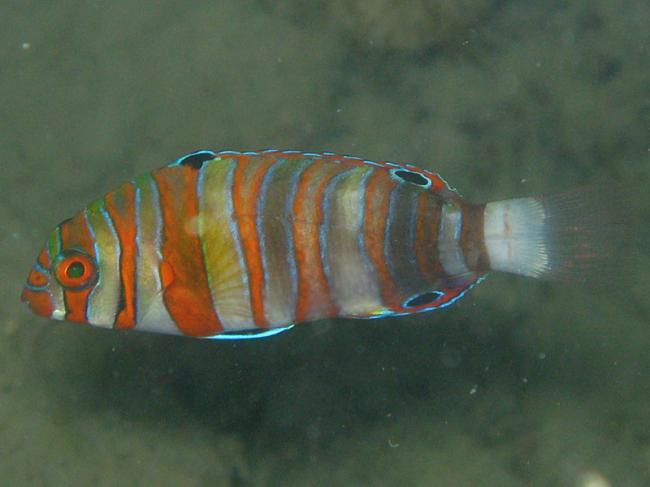fish: (23, 150, 626, 343)
